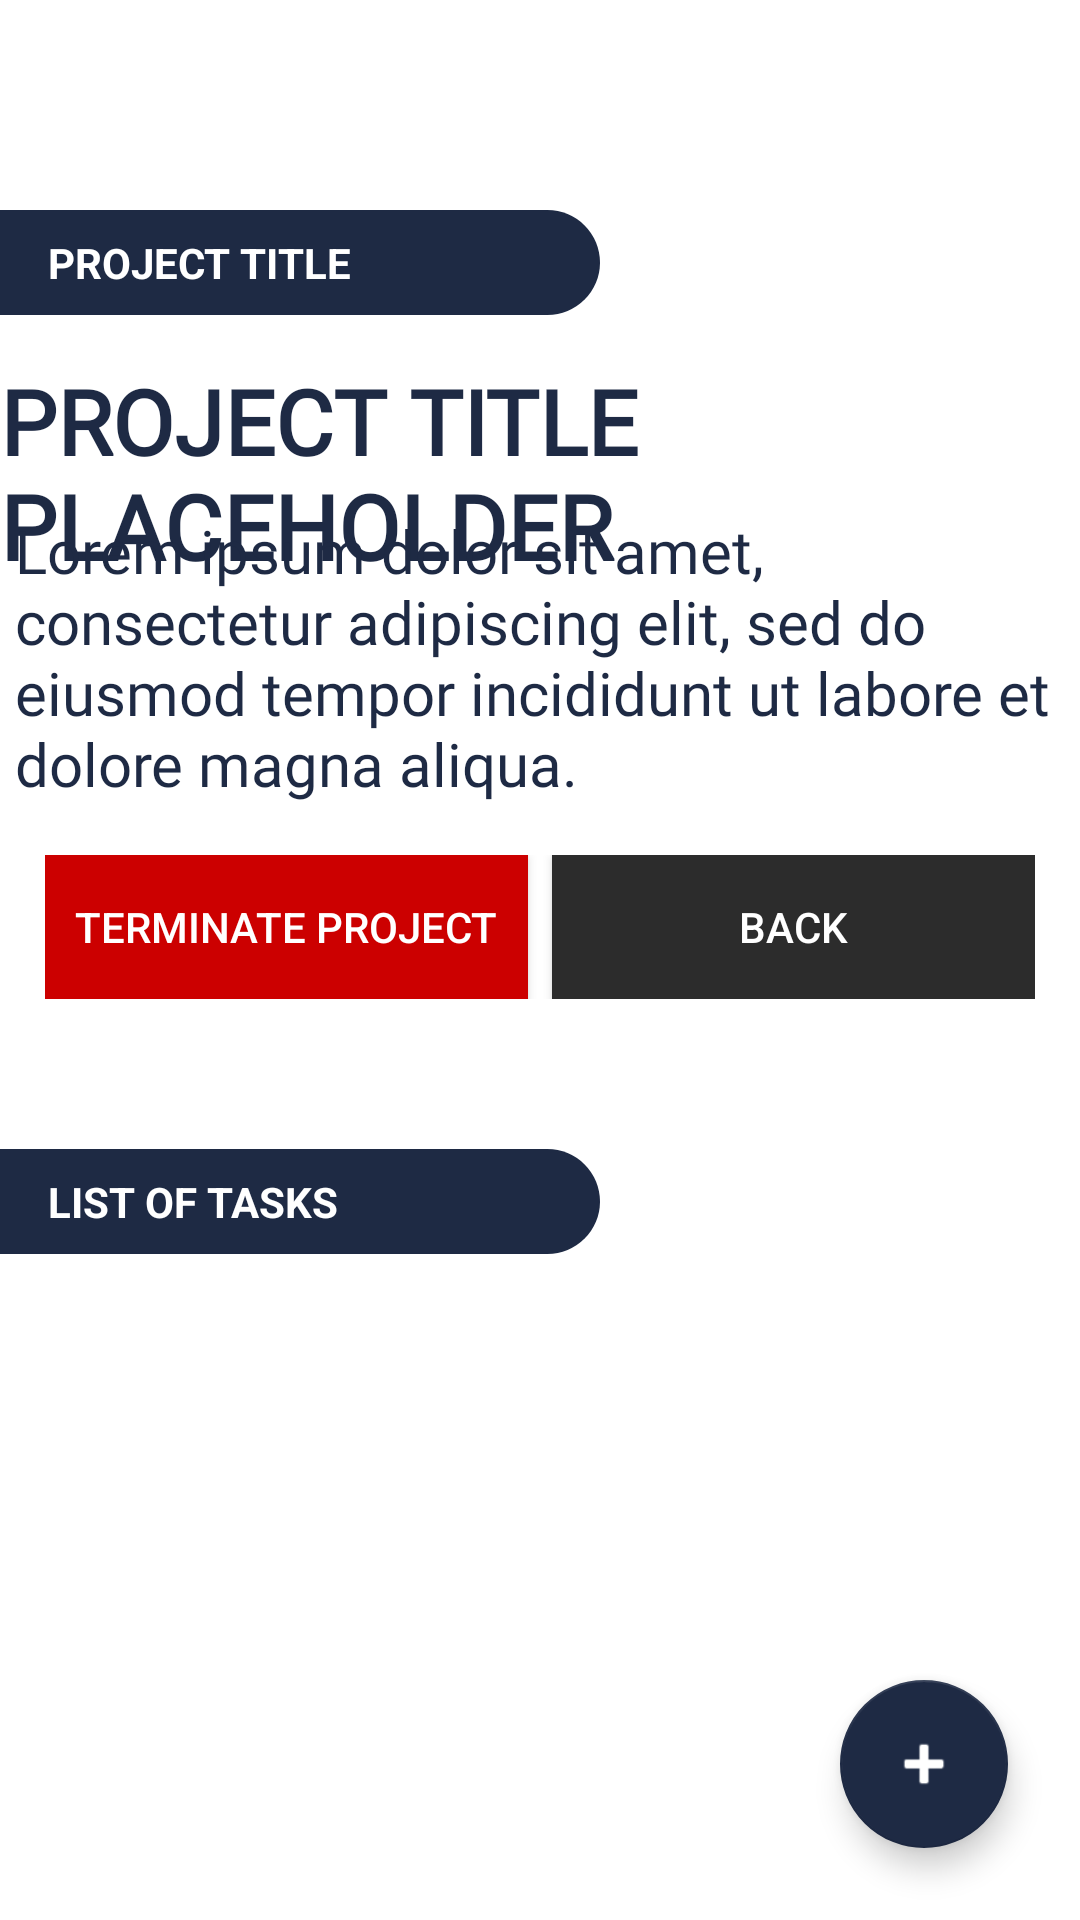

Screen size 1080px x 1920px. Icon name, then its box in pixels as {"left": x1, "top": y1, "right": x2, "bottom": y2}:
Add Tasks: {"left": 840, "top": 1680, "right": 1008, "bottom": 1848}
